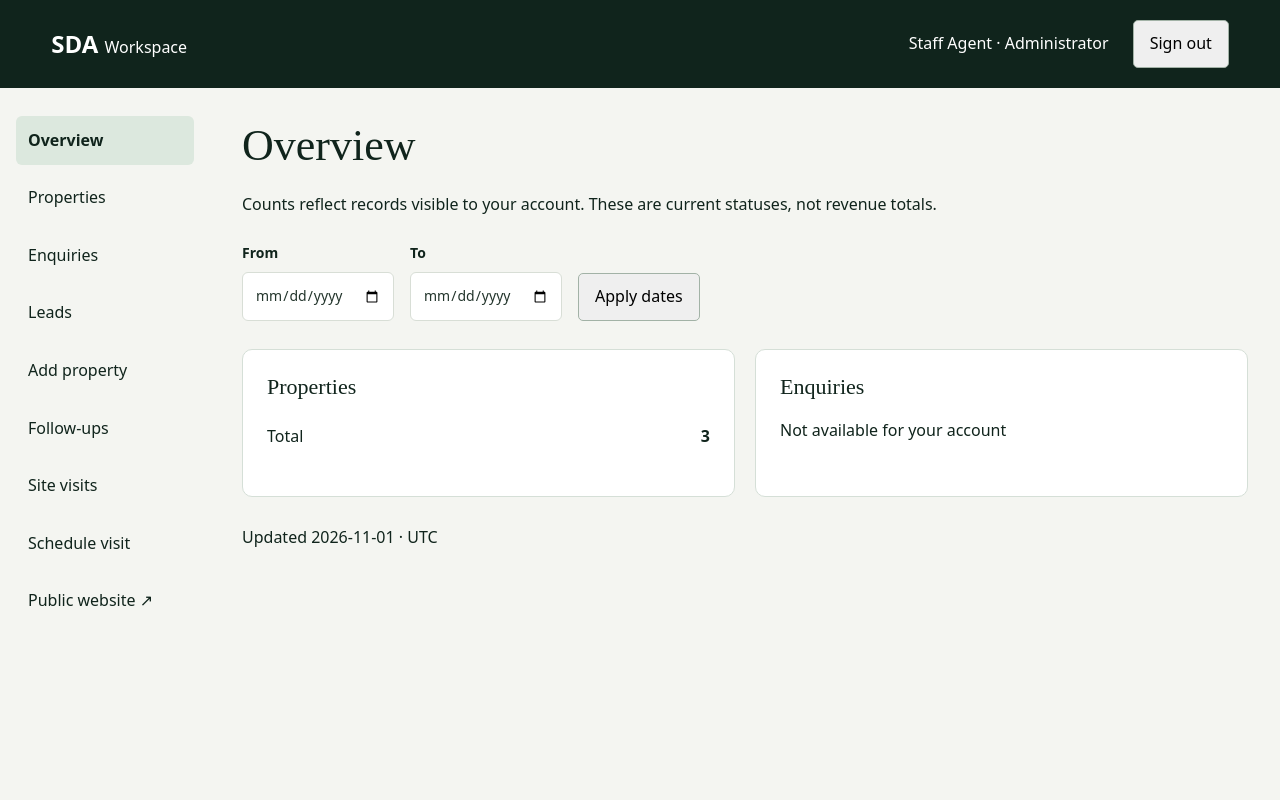
Test: does not discard the session or claim successful revocation after logout fails
Click the button "Sign out". click: click(1181, 44)
box: [1133,20,1229,68]
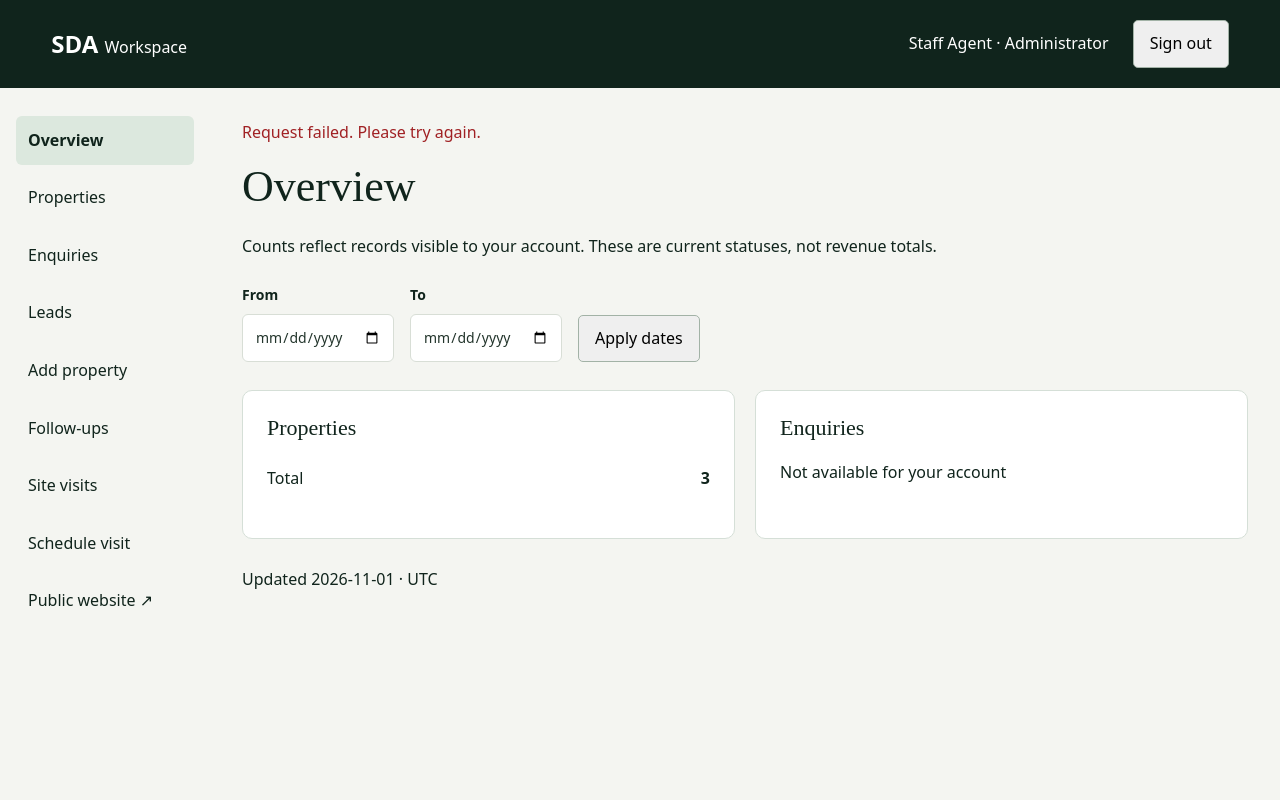
Now the message shows "Request failed", box [242,121,481,143]
